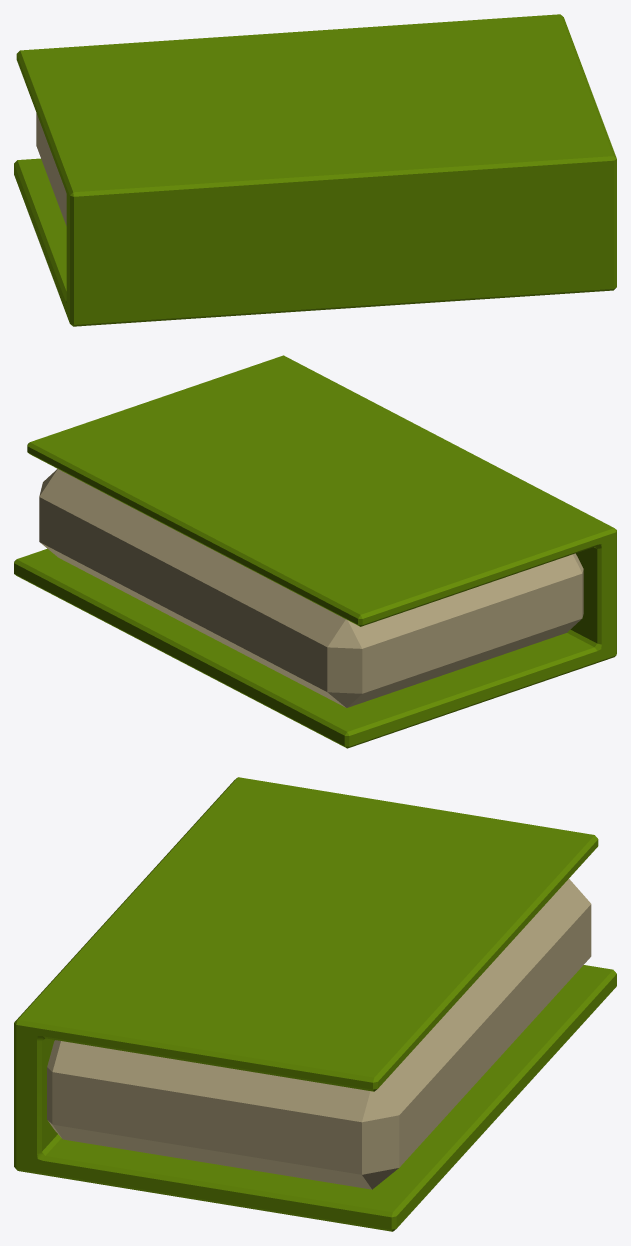
Rendered from Book_Green.fbx.
3 views of the same model, one above another, from view 1: azimuth 30°, elevation 25°; view 2: azimuth 150°, elevation 25°; view 3: azimuth 270°, elevation 25° (orthographic). The views are drawn at different scales.
Visible parts, largest first — view 1: pasted__pasted__pasted__Cover, pasted__pasted__pasted__Paper; view 2: pasted__pasted__pasted__Cover, pasted__pasted__pasted__Paper; view 3: pasted__pasted__pasted__Cover, pasted__pasted__pasted__Paper.
Part boxes in pixels (x1=…): pasted__pasted__pasted__Cover: x1=14, y1=14, x2=616, y2=326; pasted__pasted__pasted__Paper: x1=36, y1=113, x2=66, y2=225; pasted__pasted__pasted__Cover: x1=14, y1=355, x2=616, y2=748; pasted__pasted__pasted__Paper: x1=39, y1=469, x2=583, y2=707; pasted__pasted__pasted__Cover: x1=14, y1=777, x2=616, y2=1231; pasted__pasted__pasted__Paper: x1=47, y1=879, x2=591, y2=1189.
Bounding box in the file's own units: 3.03 × 0.6972 × 2.52.
